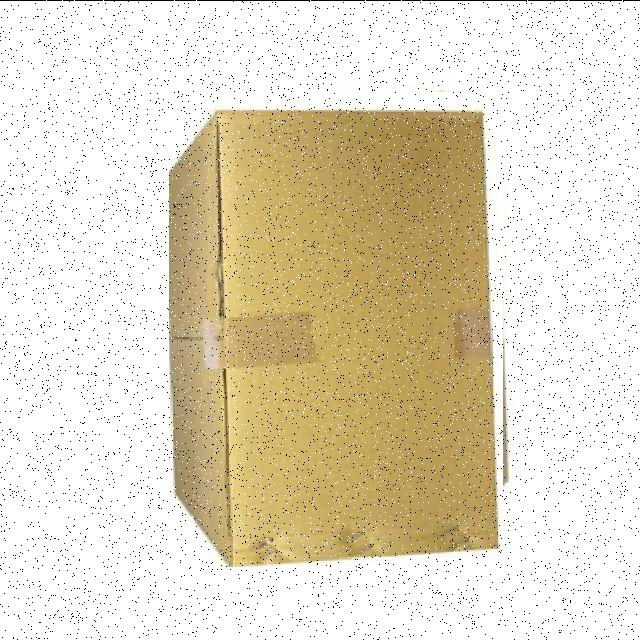normal: (169, 91, 503, 566)
